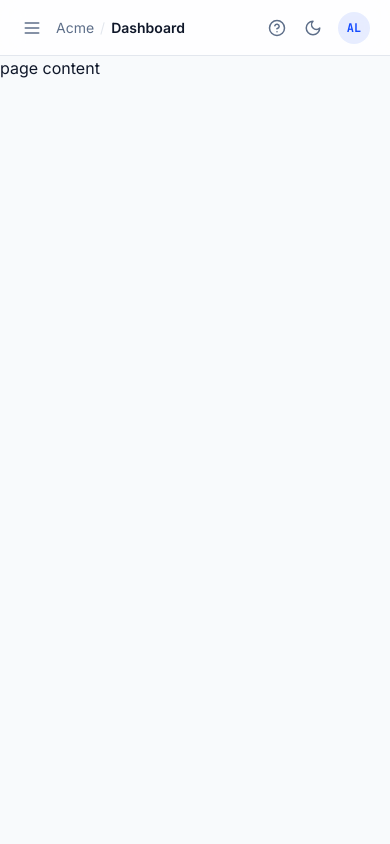
AppShell navigation drawer › opens as a labelled dialog and closes once a page is chosen
Click the button named "Open menu": {"x": 32, "y": 28} [16, 12, 48, 44]
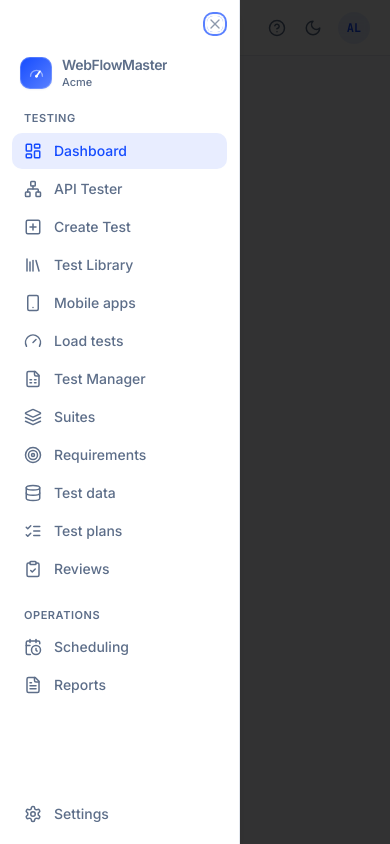
Click the link "Reports": {"x": 65, "y": 685} [24, 676, 106, 694]
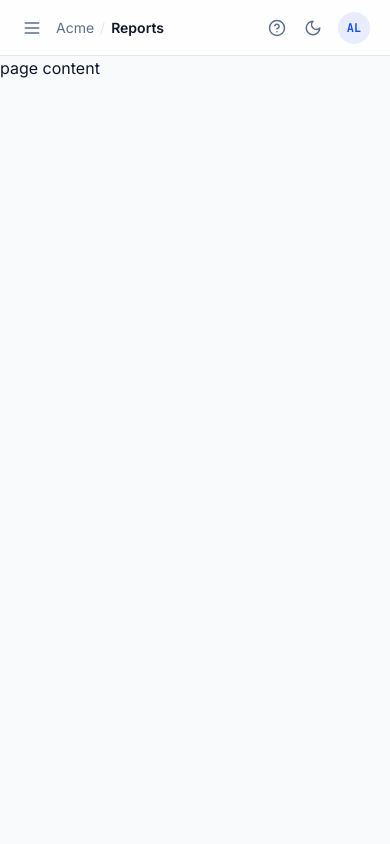
Result: the dialog is gone
Result: the header shows "Reports" at [111, 18, 164, 36]
